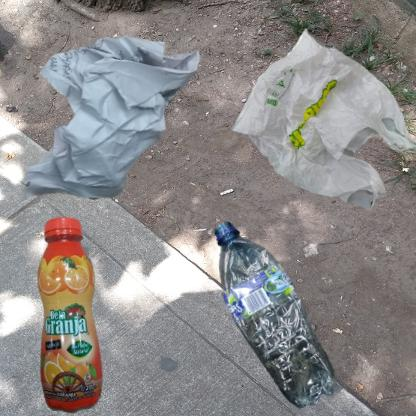bolsa: (213, 10, 416, 243)
botella: (10, 213, 146, 416), (213, 213, 342, 416)
papel: (10, 10, 215, 246)
